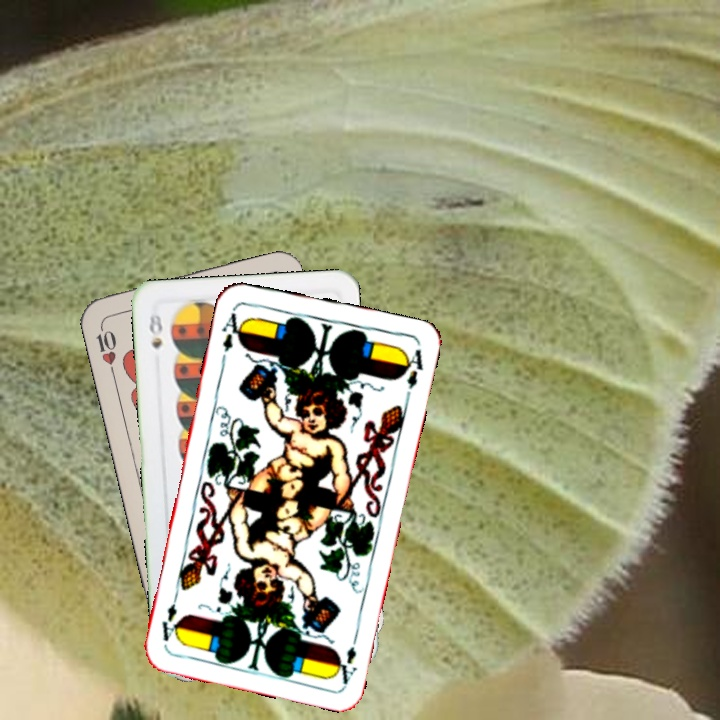EA: (331, 628, 361, 687), (217, 304, 247, 355)
H10: (91, 318, 119, 377)
S8: (145, 309, 166, 351)
